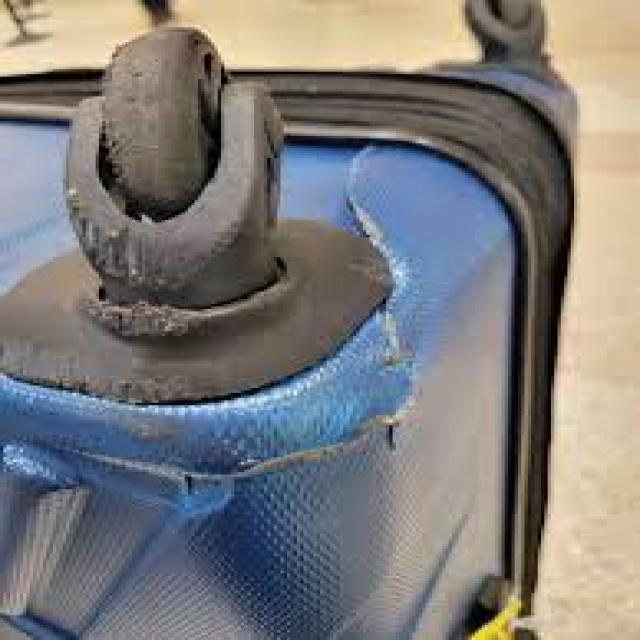Damage-bag: (80, 147, 419, 493), (82, 281, 289, 338), (35, 373, 244, 403)
